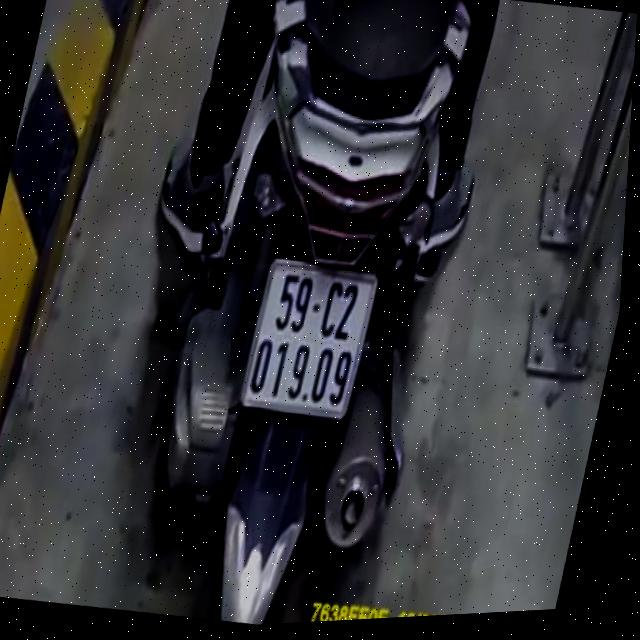motorcycle: (113, 0, 537, 632)
plate: (229, 249, 380, 429)
